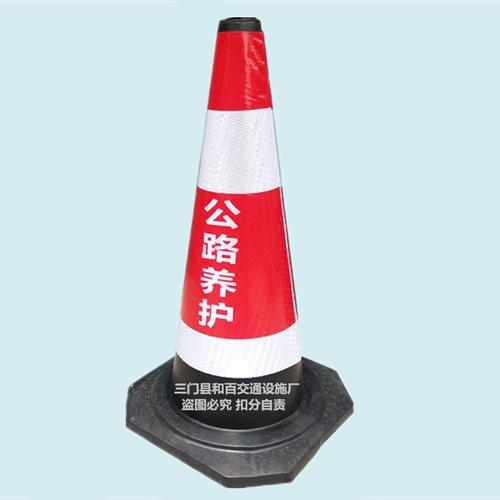cone_barrel: (136, 27, 331, 466)
